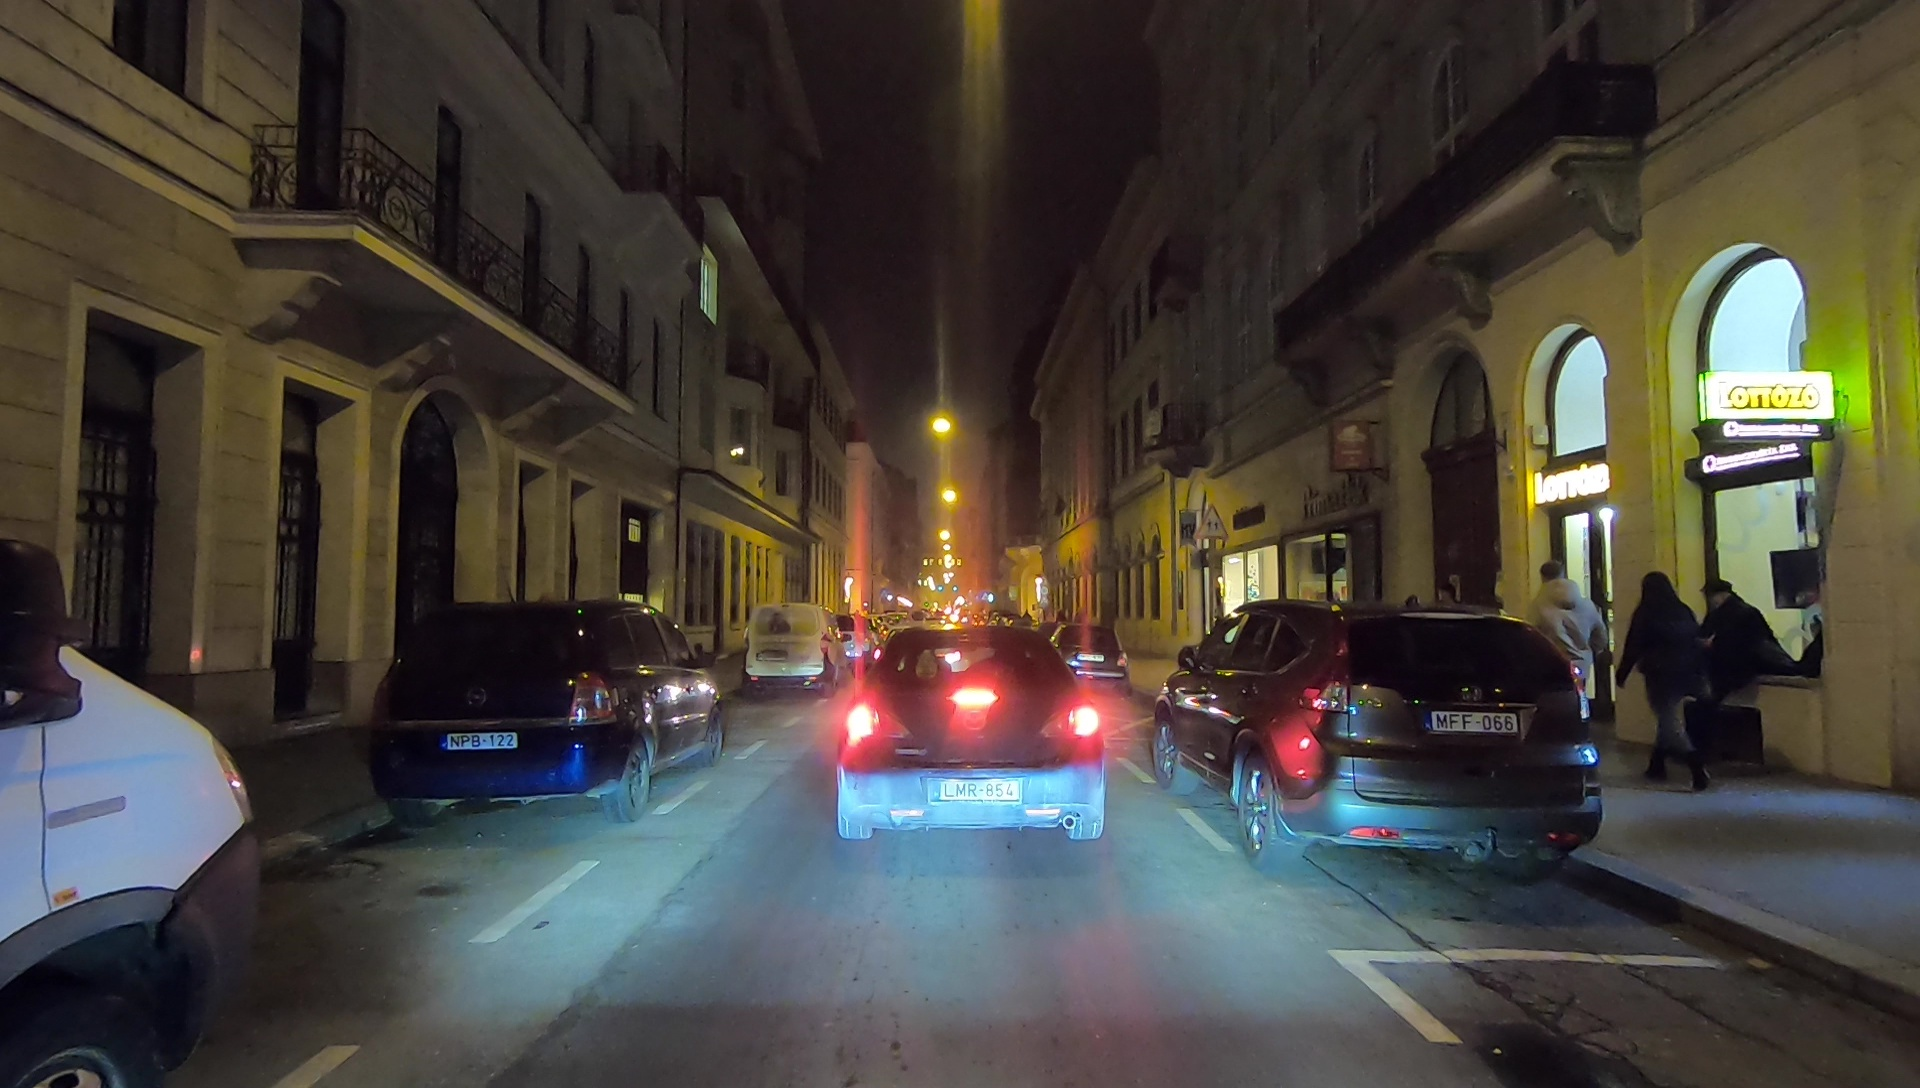person: (1523, 558, 1610, 760), (1626, 569, 1697, 786), (1702, 576, 1775, 758)
